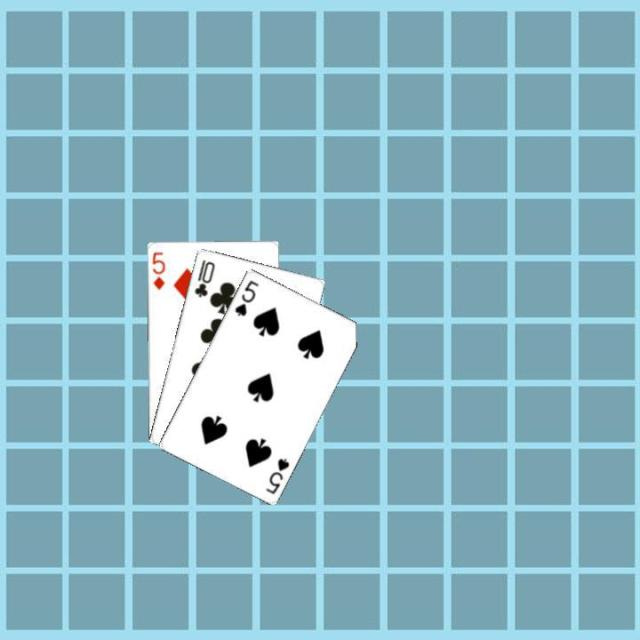10C: (190, 255, 216, 299)
5D: (148, 248, 167, 291)
5S: (230, 276, 260, 318), (262, 454, 292, 495)
